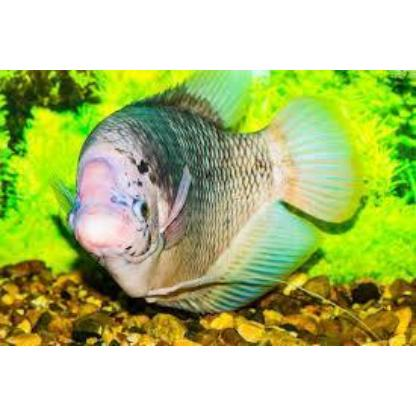gurame: (62, 72, 340, 306)
